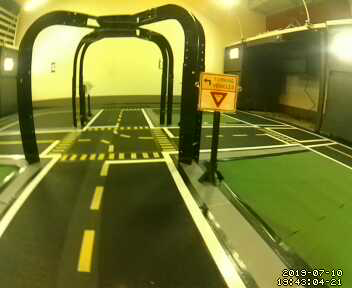Turn Yield: (196, 71, 238, 118)
